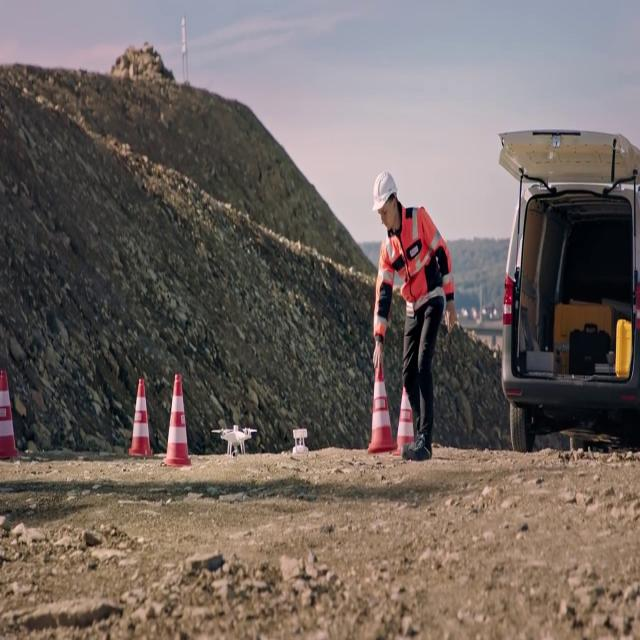drone: (210, 422, 258, 460)
